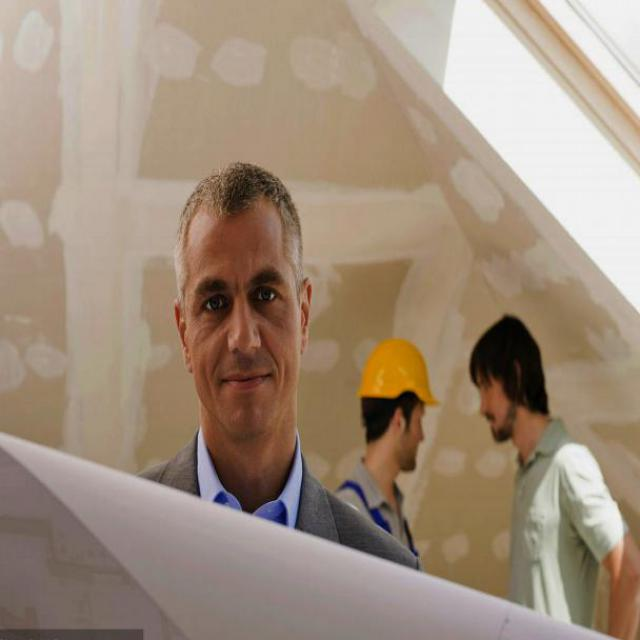helmet: (338, 333, 431, 481)
